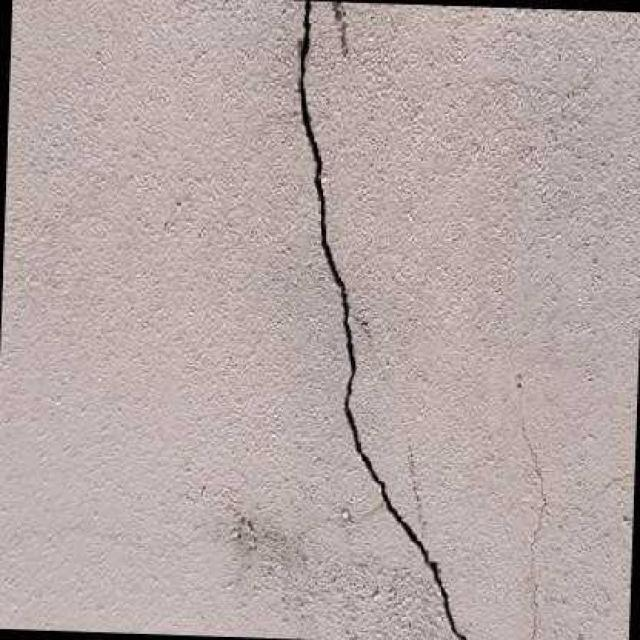D00: (297, 0, 466, 640)
